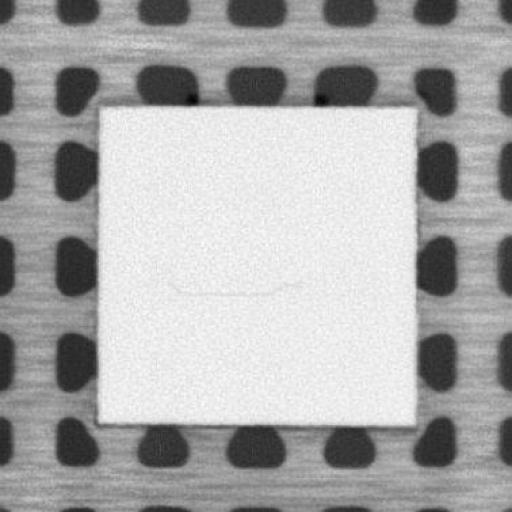DIE_CRACK: (166, 274, 304, 295)
